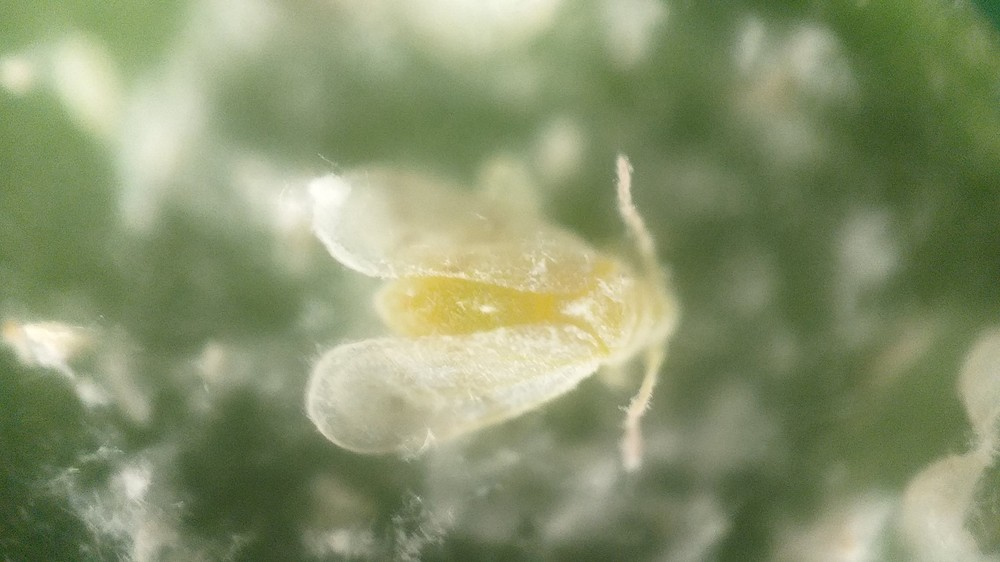Mosca Blanca: (276, 130, 705, 499)
